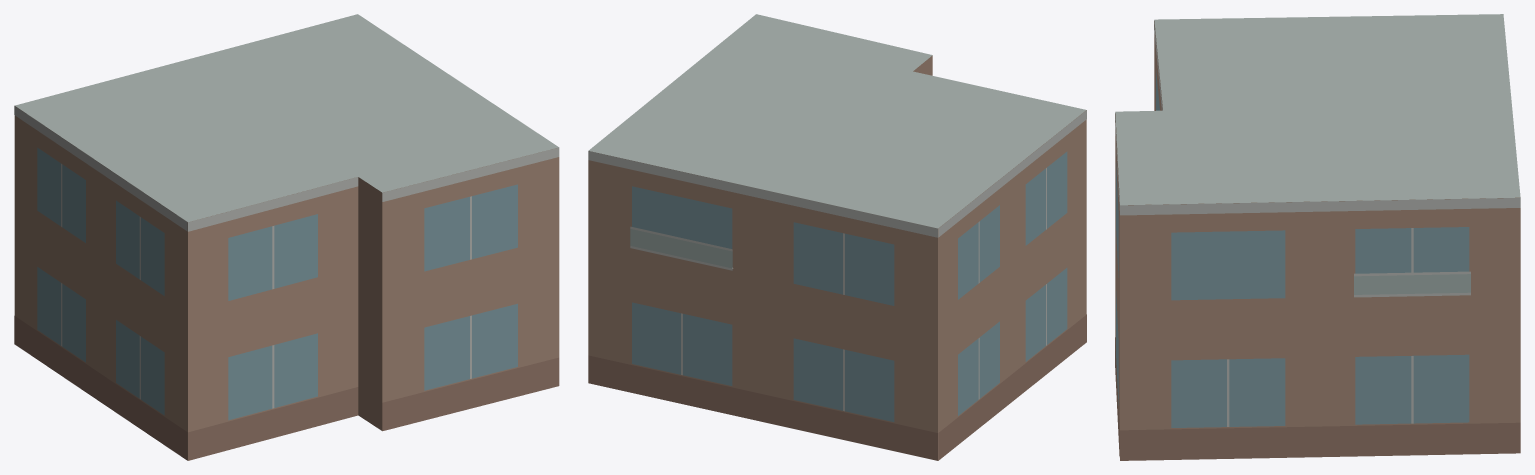
Rendered from survey-upis-32628871.glb.
3 views of the same model, side by side, from view 1: azimuth 30°, elevation 25°; view 2: azimuth 150°, elevation 25°; view 3: azimuth 270°, elevation 25° (orthographic). The views are drawn at different scales.
Parts seen in each view (by area): view 1: survey-upis-32628871.tmp; view 2: survey-upis-32628871.tmp; view 3: survey-upis-32628871.tmp.
Boxes of the visible parts, x1,y1,x2,y2 form: survey-upis-32628871.tmp: [14, 14, 559, 460]; survey-upis-32628871.tmp: [588, 14, 1086, 460]; survey-upis-32628871.tmp: [1115, 14, 1520, 460].
Size of the model in its own units: 9.8 by 6.1 by 8.78.
